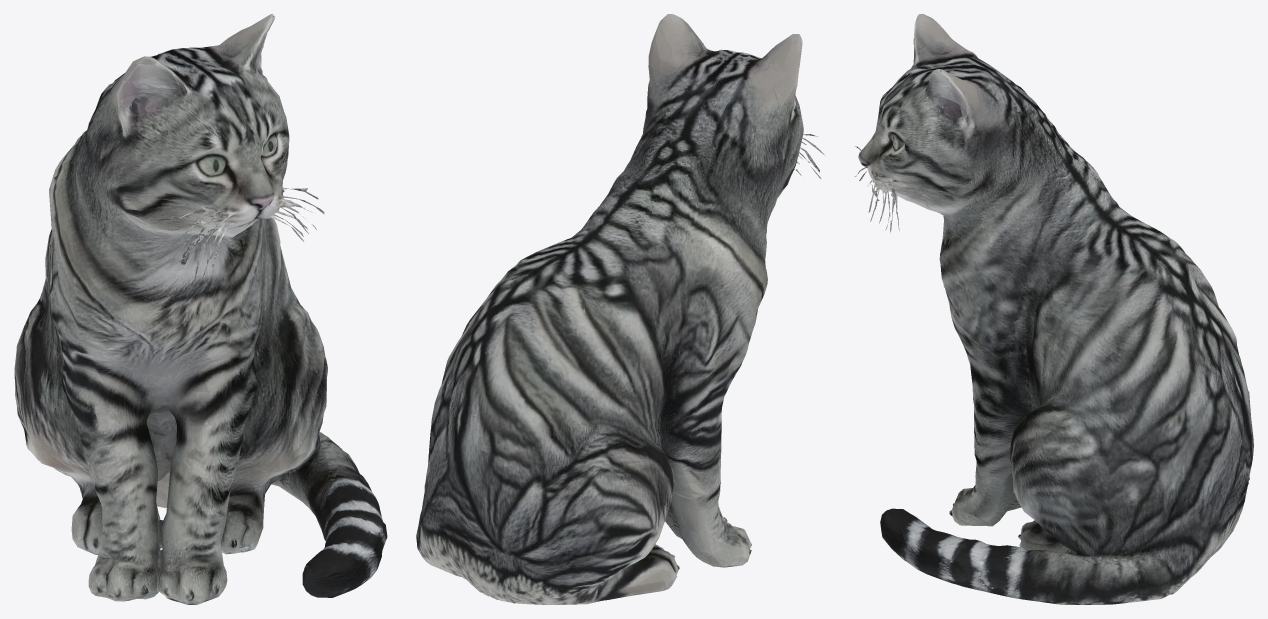
File: alice.glb
3 renders of one model, left to right at view 1: azimuth 30°, elevation 25°; view 2: azimuth 150°, elevation 25°; view 3: azimuth 270°, elevation 25°, orthographic. The views are drawn at different scales.
Visible parts, largest first — view 1: Object_4; view 2: Object_4; view 3: Object_4.
Part boxes in pixels (left/top/right/bottom): Object_4: left=14, top=14, right=387, bottom=604; Object_4: left=416, top=14, right=824, bottom=604; Object_4: left=854, top=14, right=1253, bottom=604.
Bounding box in the file's own units: 1.13 × 1.91 × 1.47.
1 material, 1 textured.
